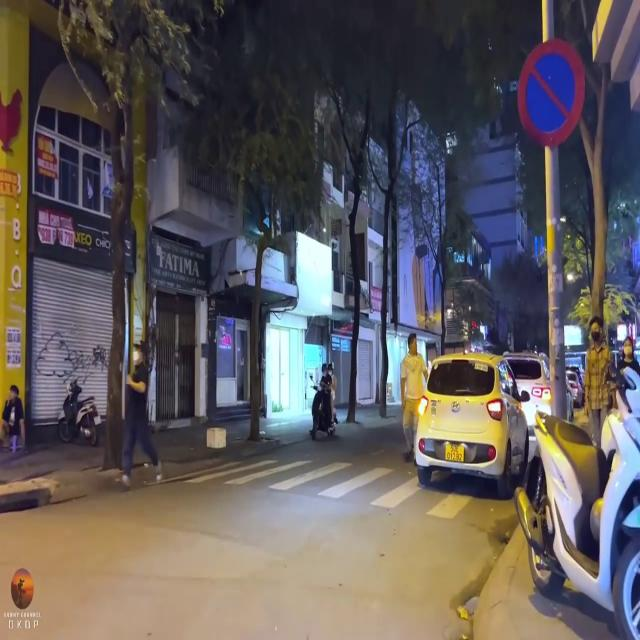bien_vang: (440, 437, 468, 467)
